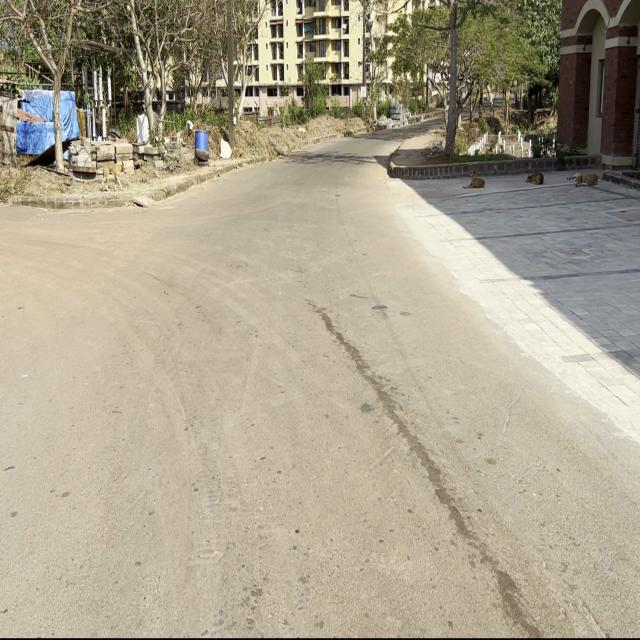Road: (1, 133, 640, 637)
